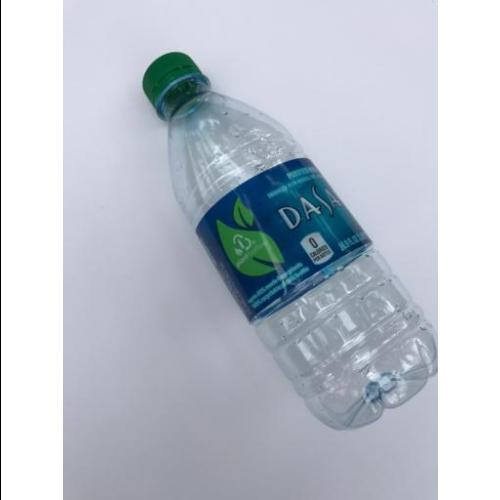plastic: (142, 49, 438, 428)
